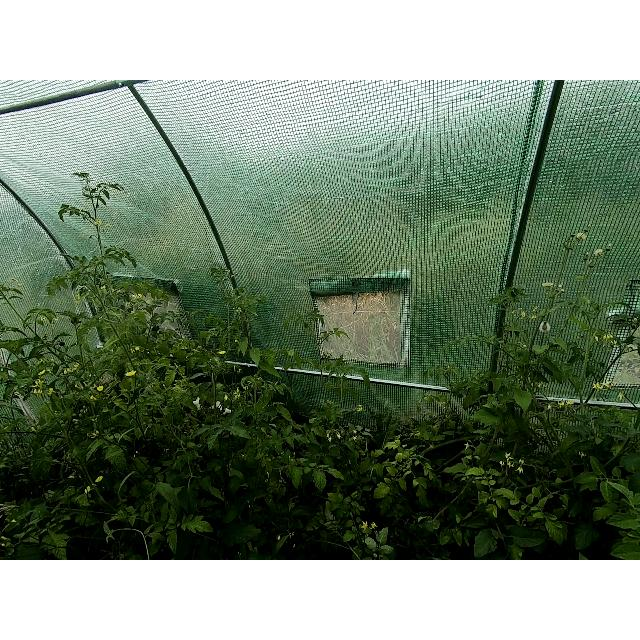Flowers: (62, 363, 80, 375), (592, 382, 614, 391), (516, 456, 526, 474), (505, 452, 515, 468), (32, 378, 46, 388), (593, 248, 605, 258), (576, 232, 588, 242), (38, 358, 56, 364), (542, 282, 554, 290), (32, 389, 44, 397), (233, 388, 241, 400), (546, 402, 556, 411), (82, 484, 91, 494), (325, 431, 333, 442), (602, 334, 614, 341), (125, 369, 137, 376), (130, 293, 144, 299), (618, 390, 626, 400), (464, 442, 474, 450), (46, 388, 56, 396), (222, 392, 230, 402), (94, 475, 104, 483), (334, 429, 342, 438), (361, 522, 369, 530), (370, 522, 378, 530), (38, 368, 46, 376), (566, 400, 576, 406), (520, 310, 526, 320), (558, 401, 564, 409), (498, 460, 506, 466), (532, 306, 540, 312), (97, 386, 105, 392), (218, 350, 228, 354), (531, 314, 537, 320), (134, 346, 140, 352), (352, 436, 358, 442), (352, 430, 358, 434)
